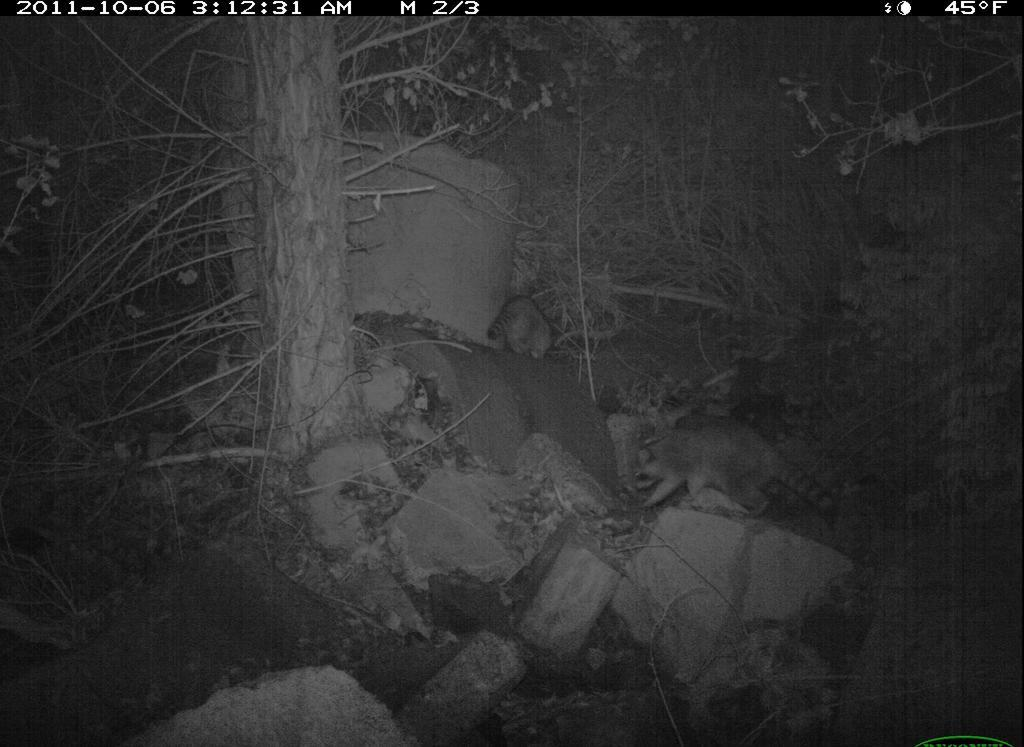raccoon: (612, 399, 840, 533)
